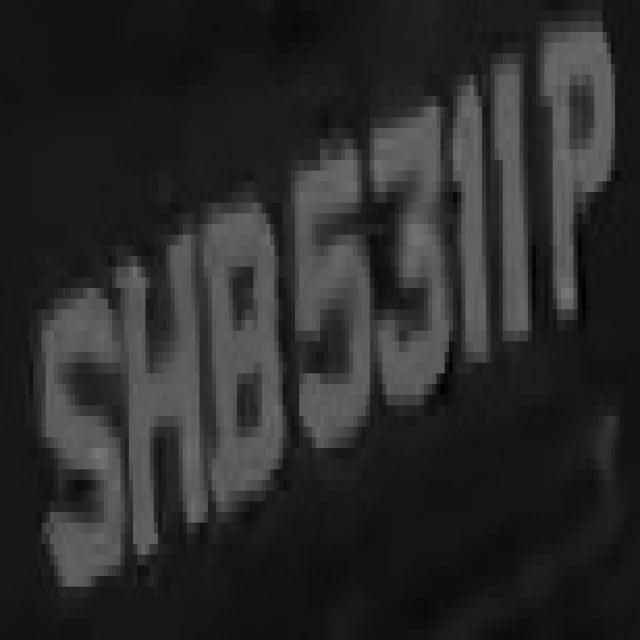1: (498, 42, 548, 426), (440, 75, 490, 448)
3: (366, 64, 449, 459)
5: (278, 85, 366, 491)
B: (204, 192, 282, 565)
H: (108, 203, 204, 565)
P: (536, 11, 619, 373)
S: (33, 266, 121, 618)
